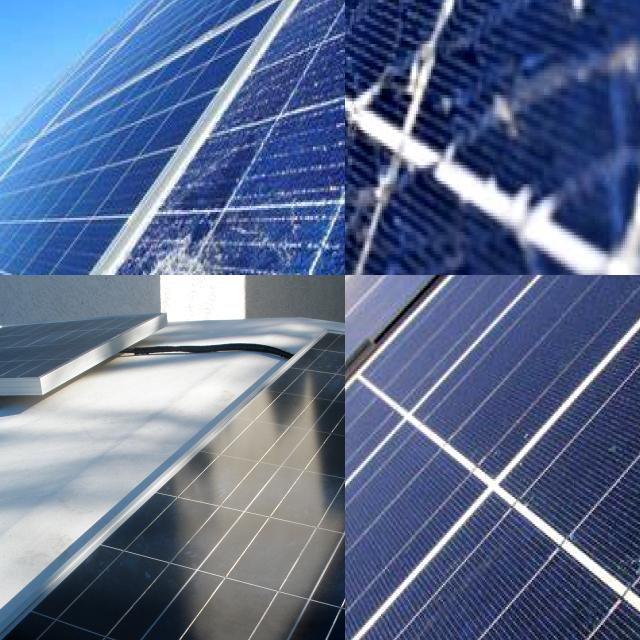crack: (345, 275, 640, 640), (0, 328, 345, 640)
hotspot: (345, 0, 453, 255), (388, 0, 545, 143), (51, 225, 234, 275), (268, 229, 330, 275)
